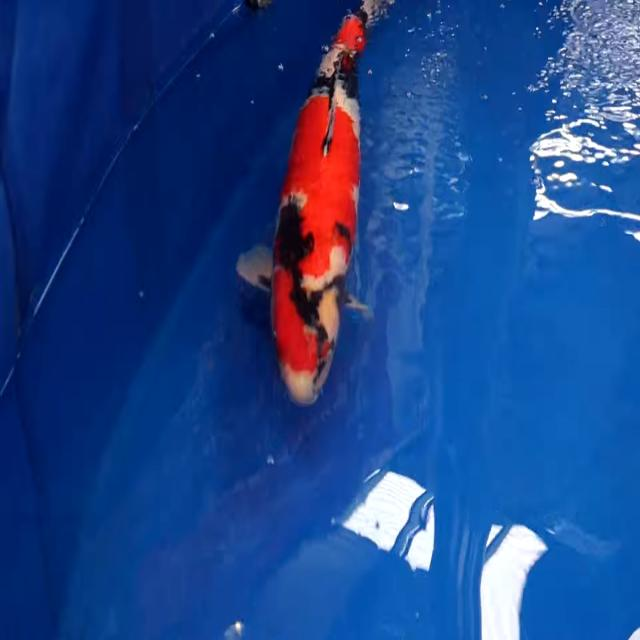Showa: (236, 0, 391, 406)
